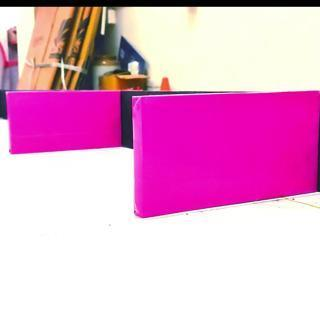xparking: (132, 94, 320, 203), (5, 90, 120, 151)
